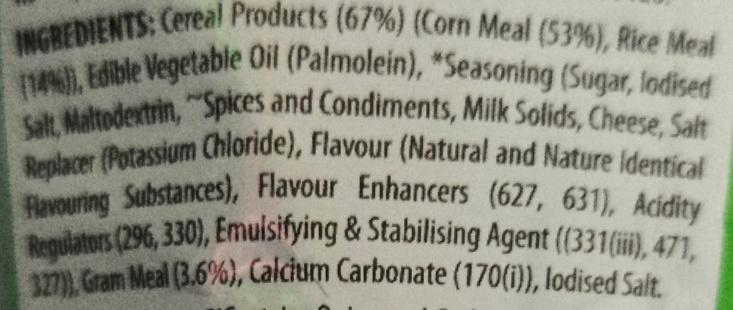ingredients: (6, 7, 725, 305)
